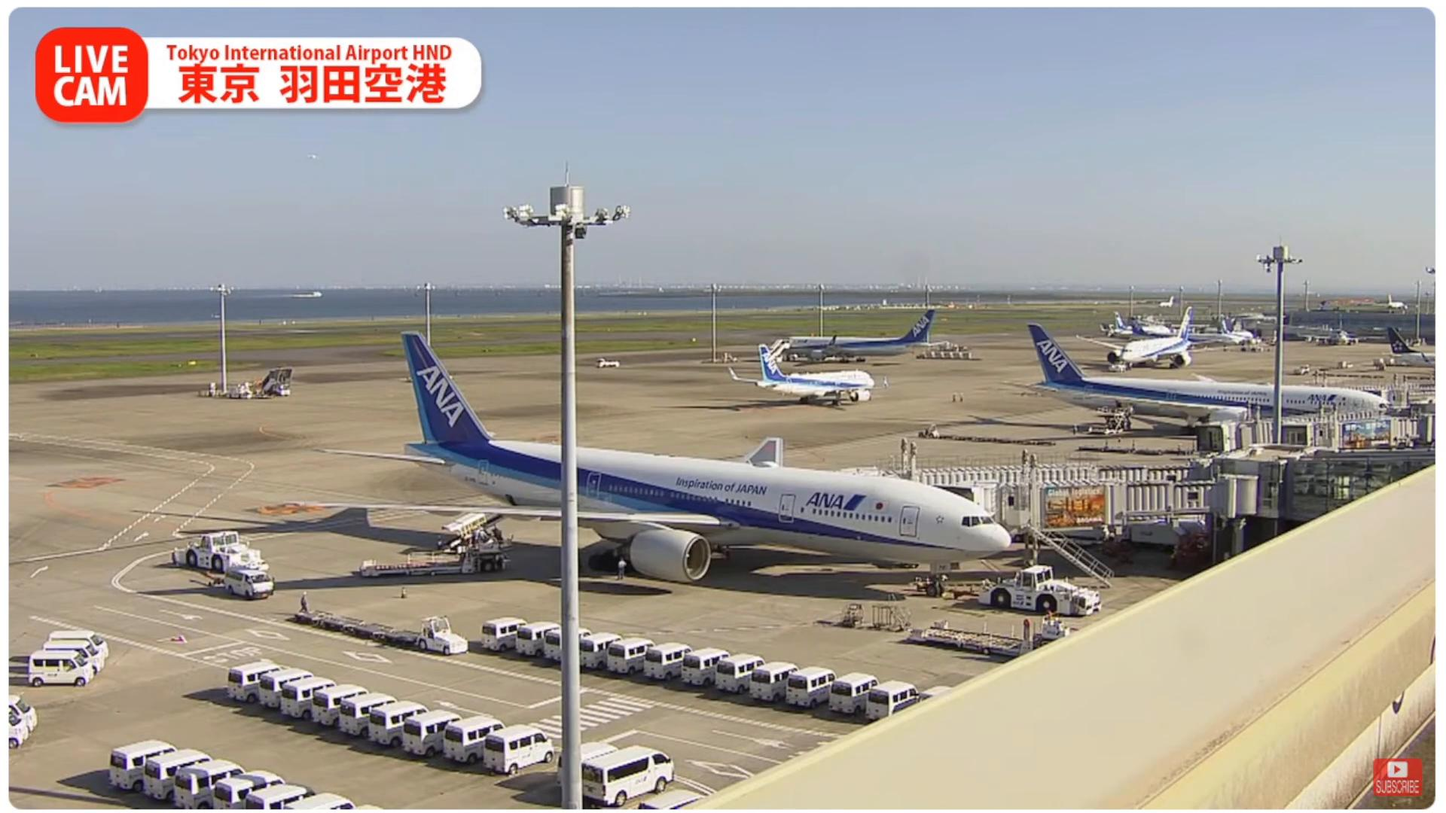APS: (982, 565, 1107, 615), (180, 532, 271, 579)
Aerobridge: (880, 463, 1198, 520), (990, 479, 1258, 539)
Airplane: (308, 328, 1018, 599)
Dolly: (288, 603, 424, 656)
JCPL: (880, 616, 1079, 668), (357, 534, 510, 583)
Skyloader: (426, 503, 510, 554)
Tractor: (422, 614, 471, 660)
Window: (1281, 462, 1437, 524)
